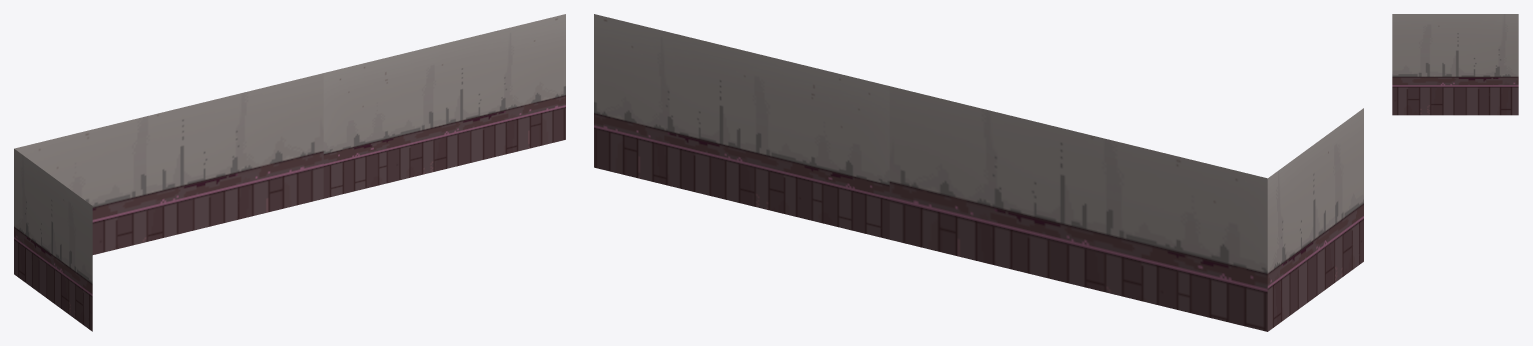
File: Parede2Andar.fbx
The picture shows the model from 3 angles, left to right: view 1: azimuth 30°, elevation 25°; view 2: azimuth 150°, elevation 25°; view 3: azimuth 270°, elevation 25°; orthographic projection. The views are drawn at different scales.
Parts seen in each view (by area): view 1: Parede2Andar; view 2: Parede2Andar; view 3: Parede2Andar.
Part boxes in pixels (box(x1,y1,x2,y2)): Parede2Andar: box(14, 14, 565, 331); Parede2Andar: box(594, 14, 1363, 331); Parede2Andar: box(1392, 14, 1518, 115).
Bounding box in the file's own units: 1570 × 388 × 342.
